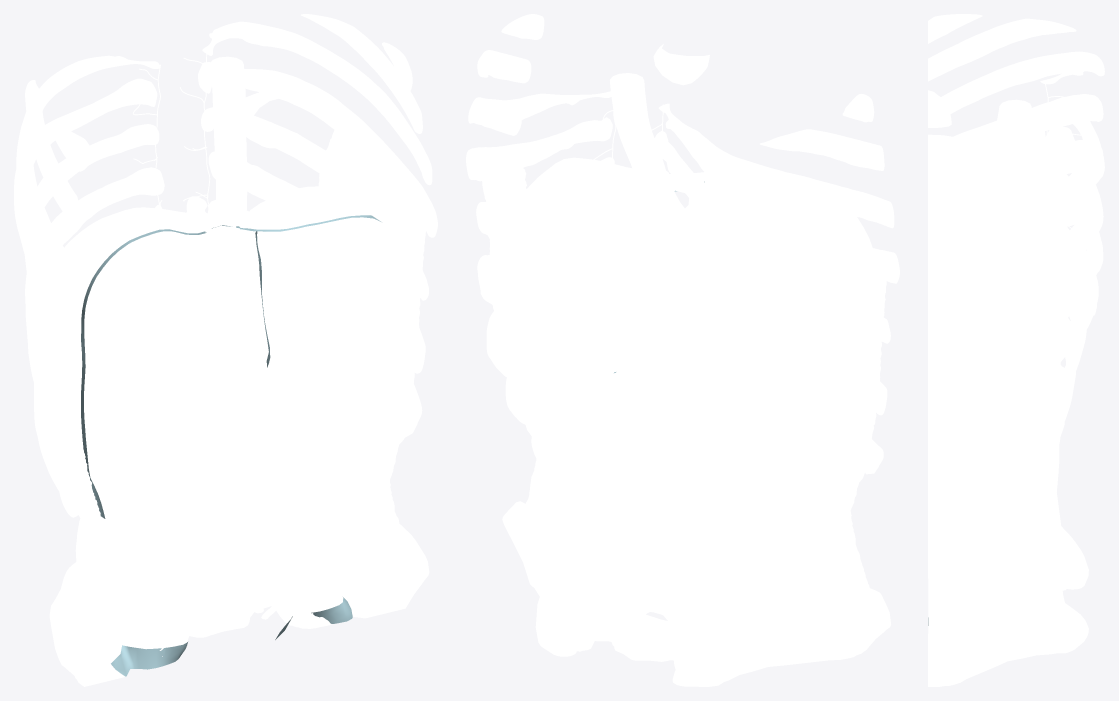
Rendered from retroperitoneum.glb.
3 renders of one model, left to right at view 1: azimuth 30°, elevation 25°; view 2: azimuth 150°, elevation 25°; view 3: azimuth 270°, elevation 25°, orthographic. The views are drawn at different scales.
Visible parts, largest first — view 1: Diaphragm, Transversus abdominis muscle.l, Psoas major.r, Psoas major.l, Kidney.r, Transversus abdominis muscle.r, Iliacus muscle.l, Kidney.l, Seventh rib.l, Ninth rib.r, Sixth rib.l, Thoracic aorta.001 (+30 smaller); view 2: Diaphragm, Transversus abdominis muscle.r, Hip bone.r, Quadratus lumborum muscle.l, Quadratus lumborum muscle.r, Seventh rib.r, Ninth rib.r, Eighth rib.r, Vertebra T10, Tenth rib.r, Sixth rib.r, Eleventh rib.r (+25 smaller); view 3: Transversus abdominis muscle.l, Hip bone.l, Diaphragm, Sixth rib.l, Seventh rib.l, Ninth rib.l, Eighth rib.l, Tenth rib.l, Sixth rib.r, Fifth rib.l, Thoracic aorta.001, Eleventh rib.l (+13 smaller).
Boxes of the visible parts, <box> form: Diaphragm: <box>56,186,414,524</box>; Transversus abdominis muscle.l: <box>288,120,426,557</box>; Psoas major.r: <box>121,367,213,656</box>; Psoas major.l: <box>257,410,335,628</box>; Kidney.r: <box>92,368,193,523</box>; Transversus abdominis muscle.r: <box>31,229,108,636</box>; Iliacus muscle.l: <box>313,517,406,618</box>; Kidney.l: <box>266,298,339,454</box>; Seventh rib.l: <box>198,62,437,237</box>; Ninth rib.r: <box>25,167,164,458</box>; Sixth rib.l: <box>202,21,432,185</box>; Thoracic aorta.001: <box>210,56,247,228</box>; Diaphragm: <box>502,157,872,505</box>; Transversus abdominis muscle.r: <box>719,257,886,615</box>; Hip bone.r: <box>672,578,890,686</box>; Quadratus lumborum muscle.l: <box>544,363,620,651</box>; Quadratus lumborum muscle.r: <box>667,370,738,669</box>; Seventh rib.r: <box>654,131,899,283</box>; Ninth rib.r: <box>665,214,887,415</box>; Eighth rib.r: <box>657,170,890,343</box>; Vertebra T10: <box>575,228,686,355</box>; Tenth rib.r: <box>673,257,883,472</box>; Sixth rib.r: <box>658,103,894,228</box>; Eleventh rib.r: <box>678,303,853,501</box>; Transversus abdominis muscle.l: <box>928,257,1053,632</box>; Hip bone.l: <box>928,583,1088,686</box>; Diaphragm: <box>928,134,1059,526</box>; Sixth rib.l: <box>928,104,1104,300</box>; Seventh rib.l: <box>928,126,1103,352</box>; Ninth rib.l: <box>928,204,1098,471</box>; Eighth rib.l: <box>928,169,1103,406</box>; Tenth rib.l: <box>928,244,1086,521</box>; Sixth rib.r: <box>941,51,1104,113</box>; Fifth rib.l: <box>928,155,1076,244</box>; Thoracic aorta.001: <box>967,99,1031,242</box>; Eleventh rib.l: <box>954,319,1075,535</box>.
Size of the model in its own units: 0.2833 by 0.38 by 0.1173.
